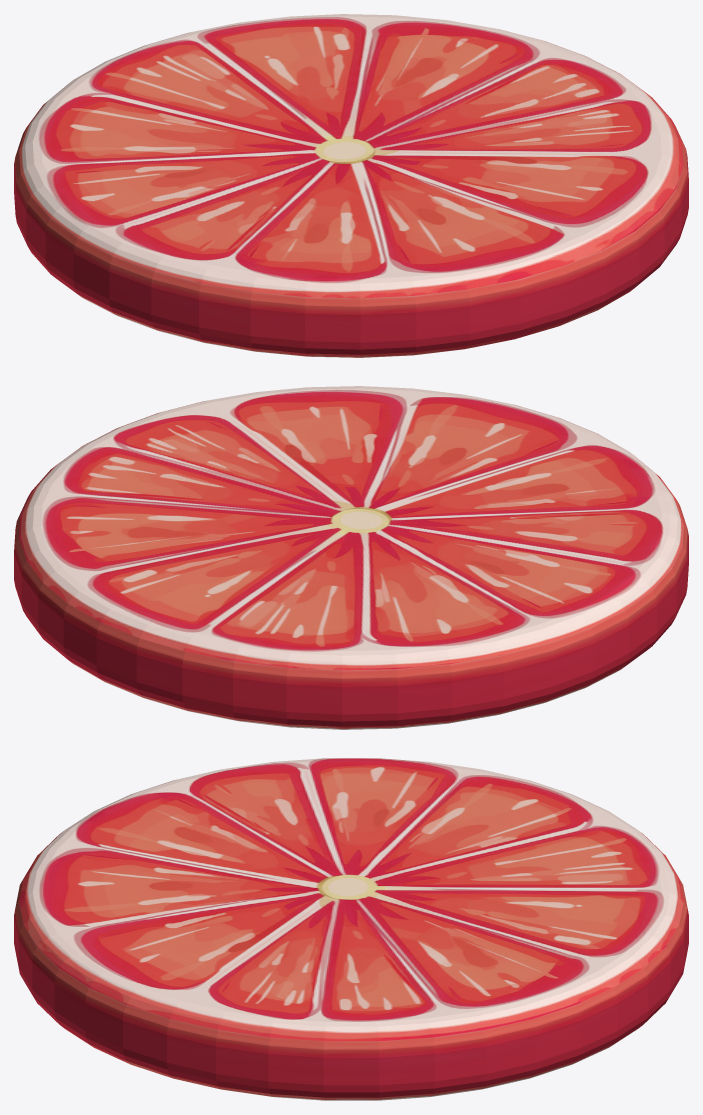
The model's file is grapefruit-slice.glb.
The picture shows the model from 3 angles, top to bottom: view 1: azimuth 30°, elevation 25°; view 2: azimuth 150°, elevation 25°; view 3: azimuth 270°, elevation 25°; orthographic projection.
Parts seen in each view (by area): view 1: Cylinder; view 2: Cylinder; view 3: Cylinder.
Boxes of the visible parts, box(x1,y1,x2,y2) form: Cylinder: box(14, 14, 688, 357); Cylinder: box(14, 386, 688, 729); Cylinder: box(14, 758, 688, 1100).
Size of the model in its own units: 1.99 by 0.25 by 2.
Materials: 1 (1 with a texture image).
